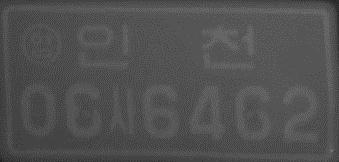0: (19, 83, 57, 137)
2: (281, 84, 320, 142)
4: (188, 85, 226, 140)
6: (63, 81, 104, 141), (141, 83, 181, 141), (233, 84, 269, 143)
사: (106, 86, 138, 135)
영: (20, 23, 61, 66)
인천_D: (76, 22, 257, 71)
